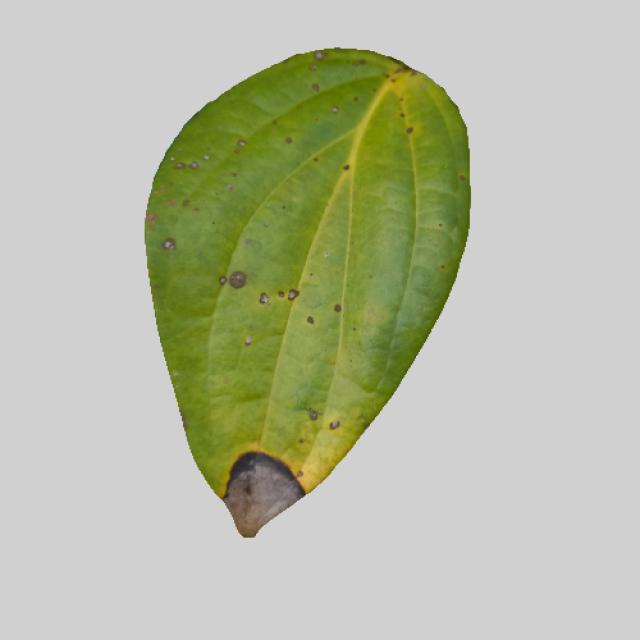leaf-blight: (133, 51, 479, 536)
